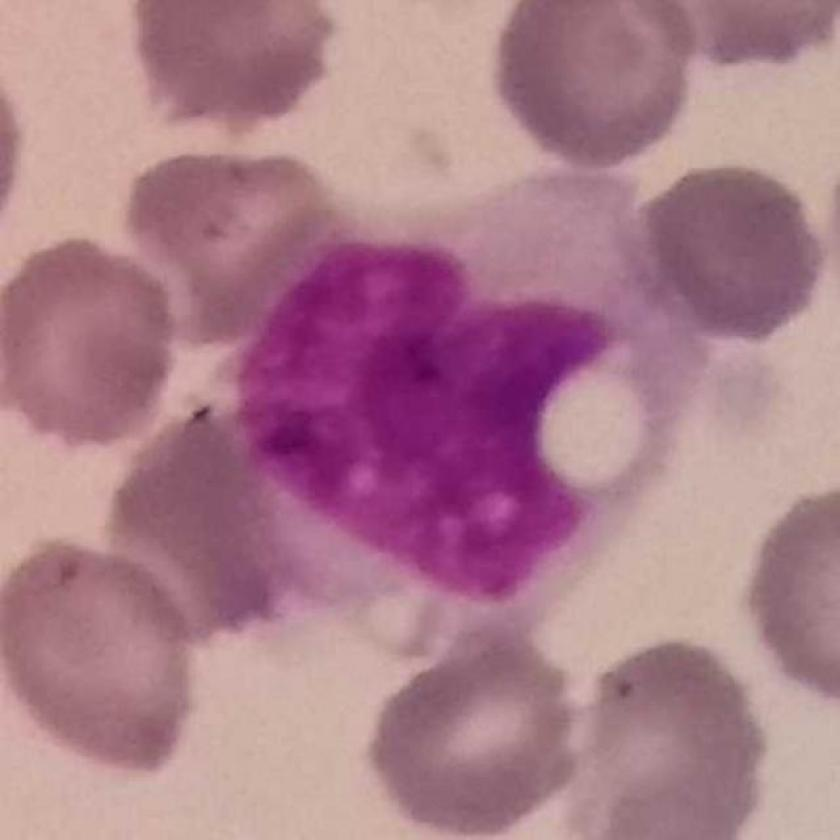monocyte: (233, 165, 707, 657)
